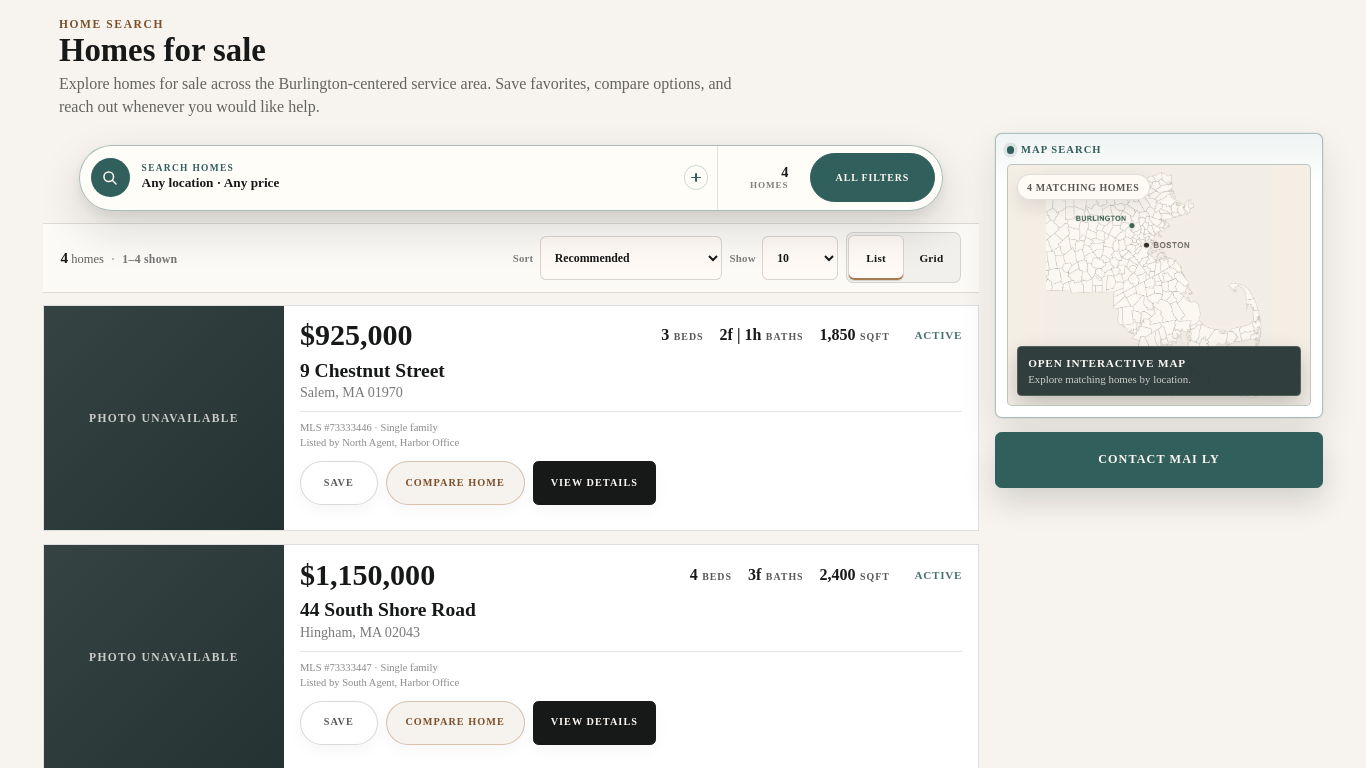
PropertiesSearch › expands the desktop filter capsule on click and dismisses it with Escape
Click the button with aria-label "edit search filters" at (110, 178), box [80,146,717,210]
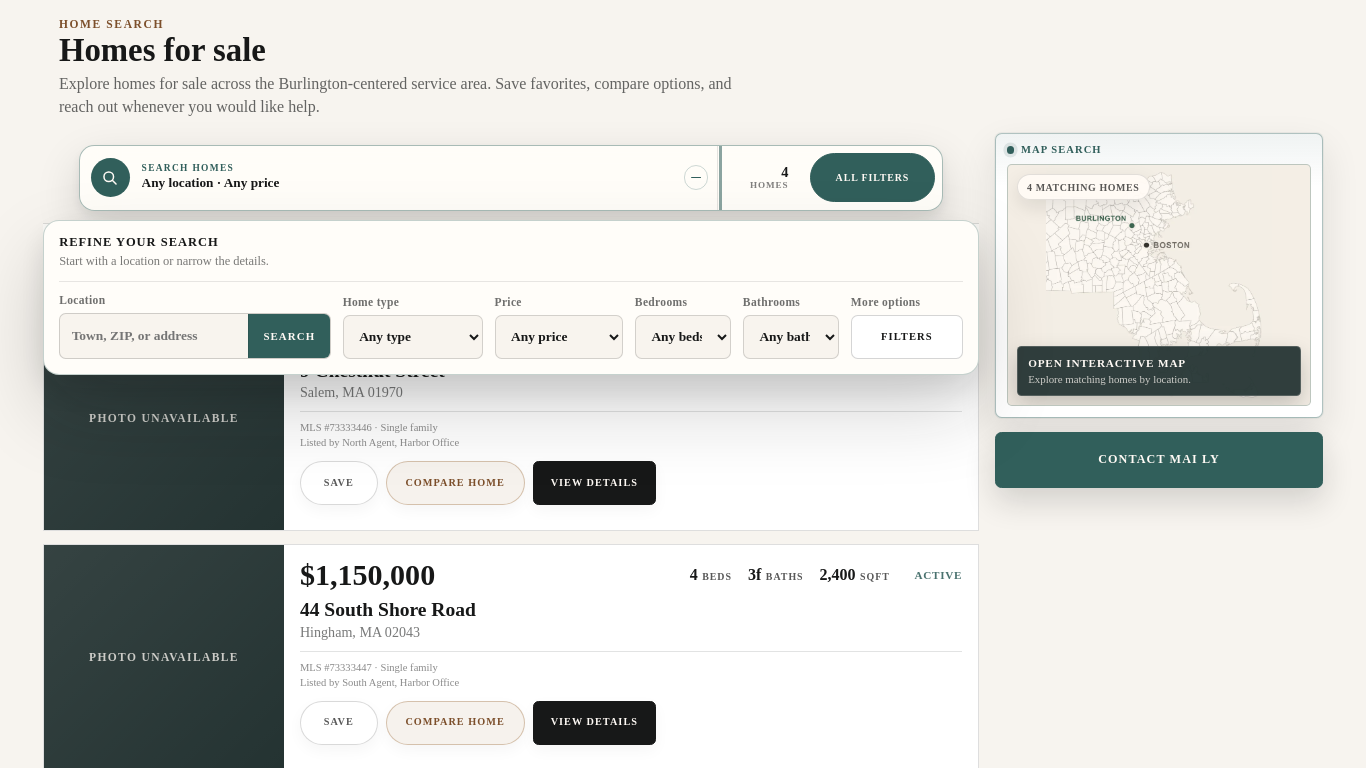
Now the button with aria-label "edit search filters" is expanded, box [80,146,717,210]
Now the element named "property search filters" is shown, box [43,220,979,375]
Press Escape
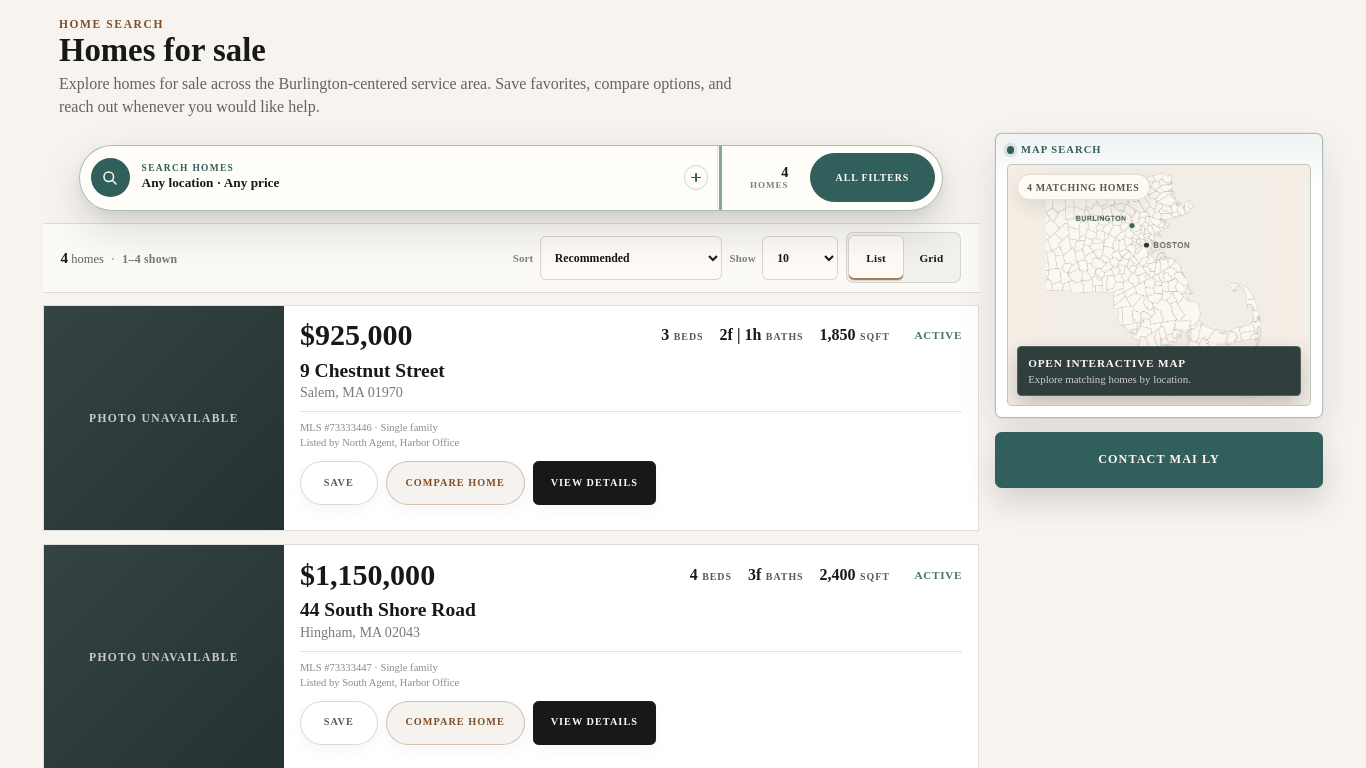
Now the button with aria-label "edit search filters" is collapsed, box [80,146,717,210]
